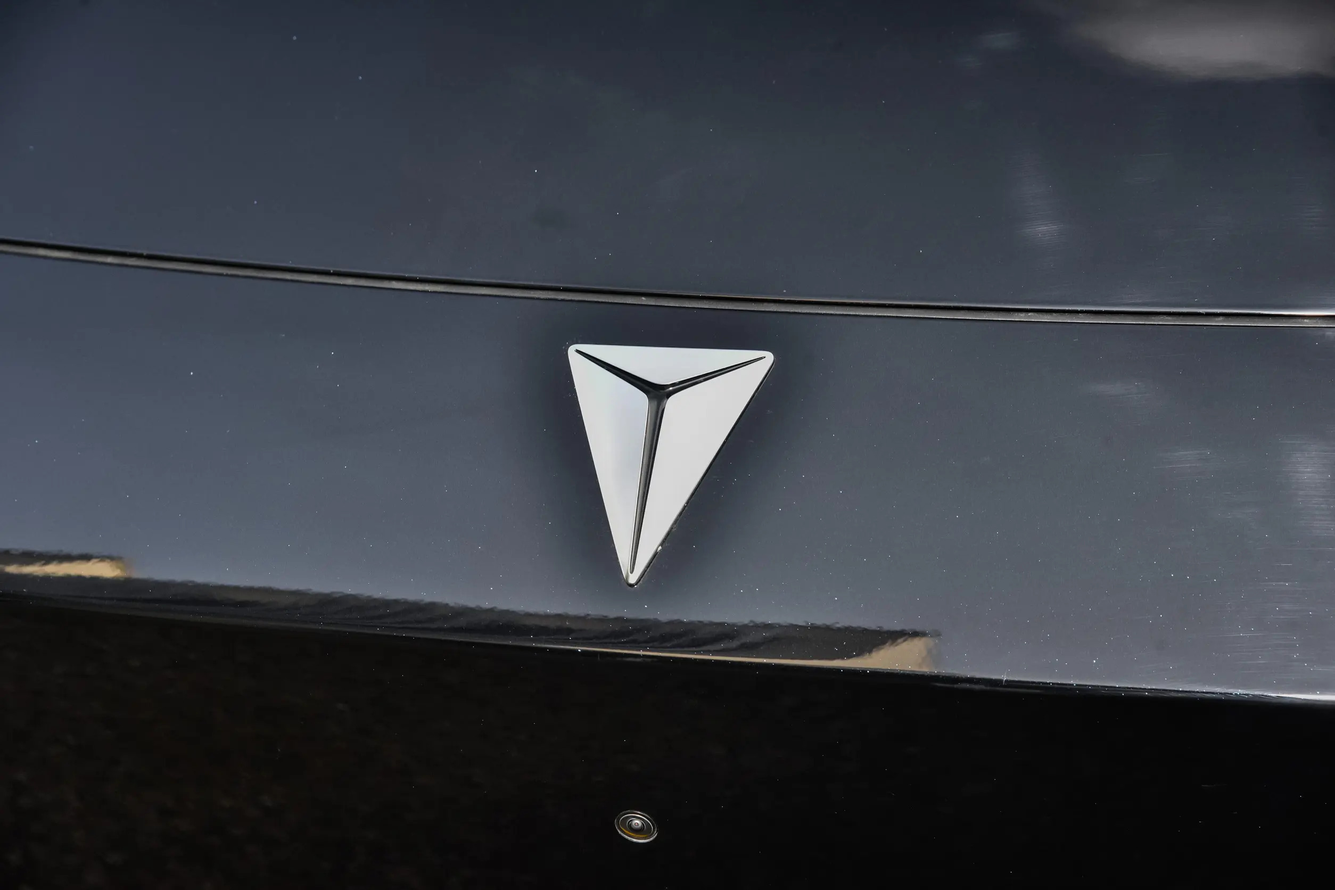Deepal: (568, 344, 774, 584)
